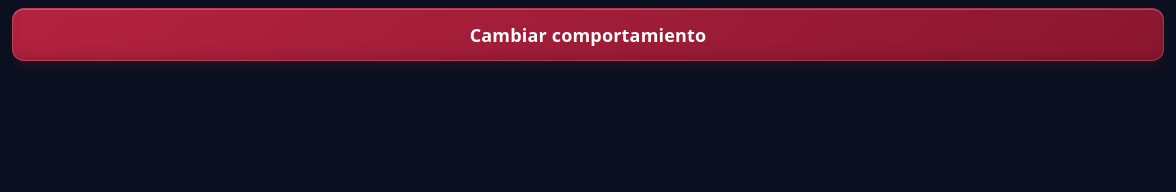
Scenario: BehaviorSelector › Debería mostrar solo los comportamientos de jugador cuando la lista mezcla PLAYER y COACH
Click the button "Cambiar comportamiento". click: [588, 35]
box: [12,8,1164,61]
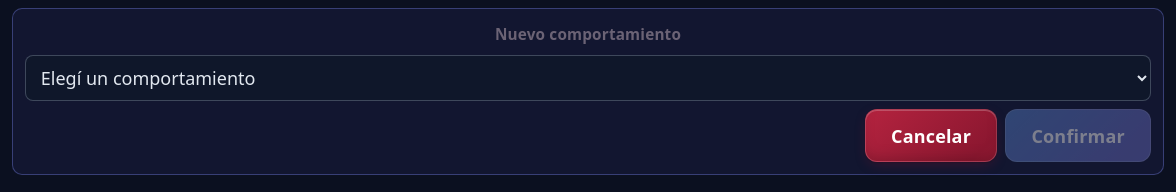
Expected: the dropdown is shown, [25,55,1151,101]
